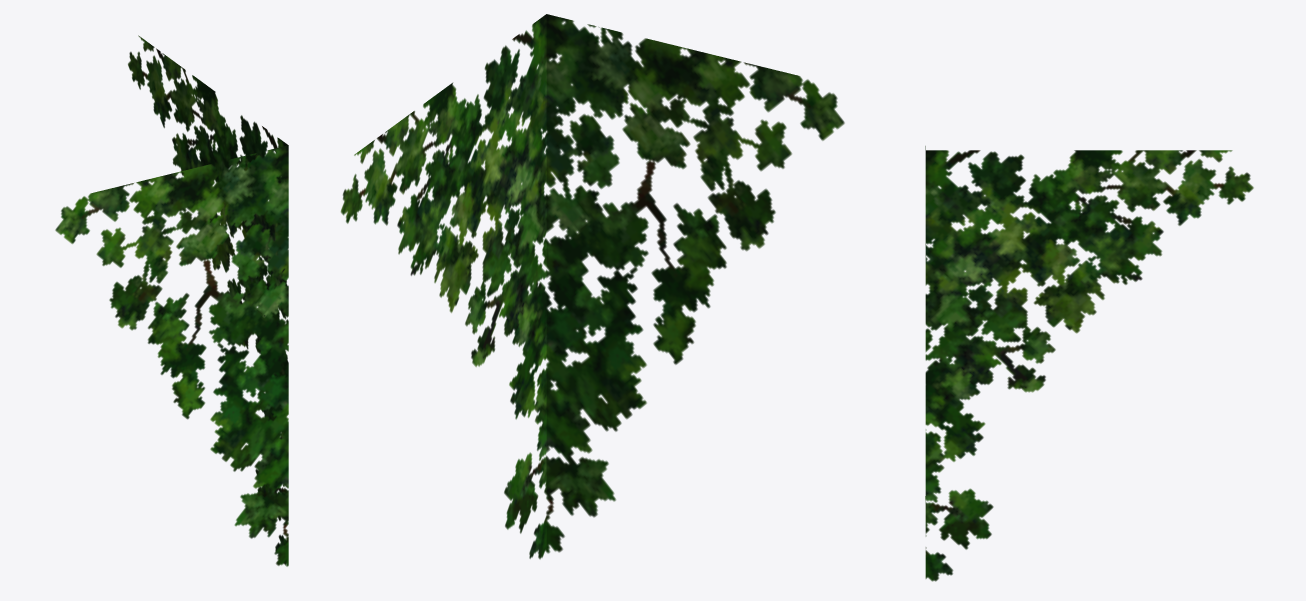
File: Vine2.glb
The picture shows the model from 3 angles, left to right: view 1: azimuth 30°, elevation 25°; view 2: azimuth 150°, elevation 25°; view 3: azimuth 270°, elevation 25°; orthographic projection. The views are drawn at different scales.
Parts seen in each view (by area): view 1: Vine2; view 2: Vine2; view 3: Vine2.
Part boxes in pixels (x1,y1,x2,y2): Vine2: [55, 35, 288, 566]; Vine2: [340, 14, 844, 559]; Vine2: [925, 146, 1253, 581].
Size of the model in its own units: 2.26 by 3.37 by 2.56.
1 material, 1 textured.
